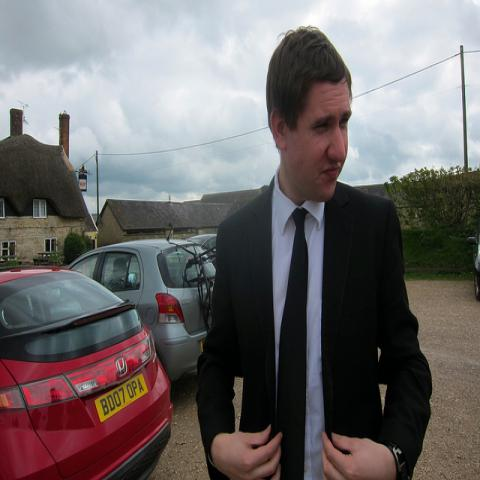car: (0, 265, 177, 473), (66, 240, 216, 383), (466, 224, 480, 304), (188, 234, 217, 270)
